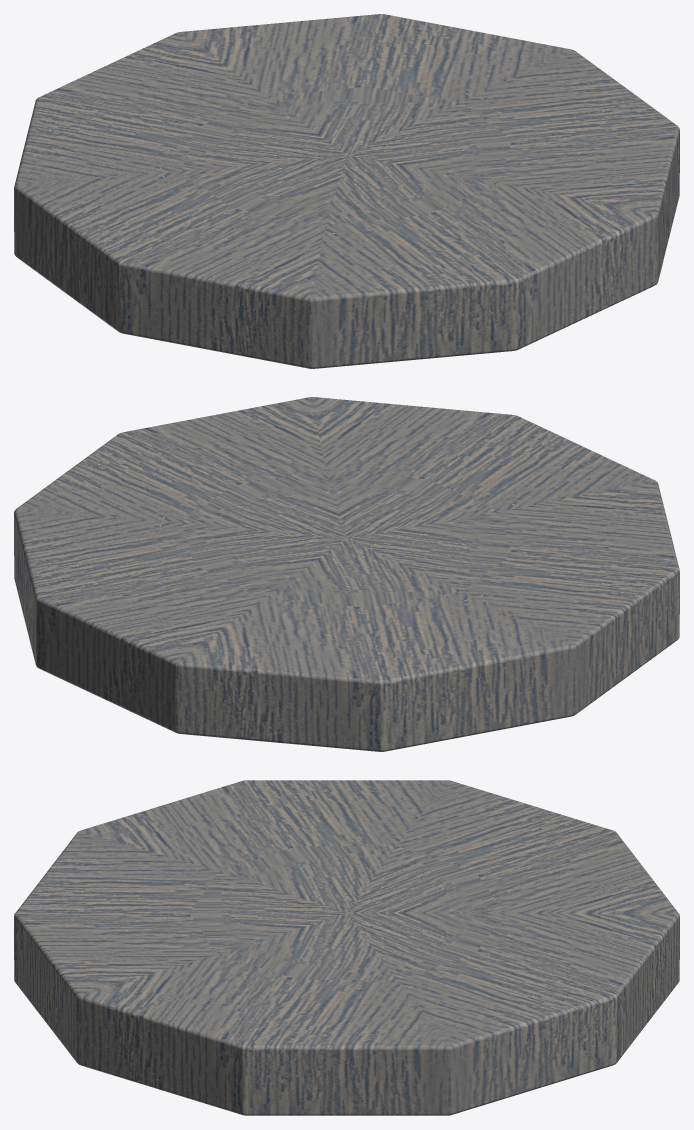
Rendered from GazeboRoofTop2.obj.
3 renders of one model, top to bottom at view 1: azimuth 30°, elevation 25°; view 2: azimuth 150°, elevation 25°; view 3: azimuth 270°, elevation 25°, orthographic. The views are drawn at different scales.
Visible parts, largest first — view 1: GazeboRoof10; view 2: GazeboRoof10; view 3: GazeboRoof10.
Part boxes in pixels (x1,y1,x2,y2): GazeboRoof10: (14,14,679,368); GazeboRoof10: (14,397,679,751); GazeboRoof10: (14,780,679,1115).
Size of the model in its own units: 379 by 46.25 by 397.
1 material, 1 textured.
